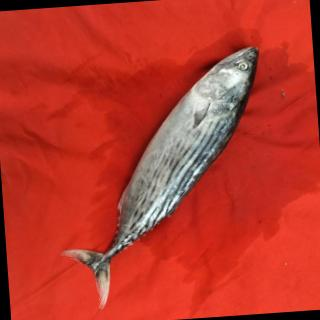Ikan: (53, 41, 279, 308)
